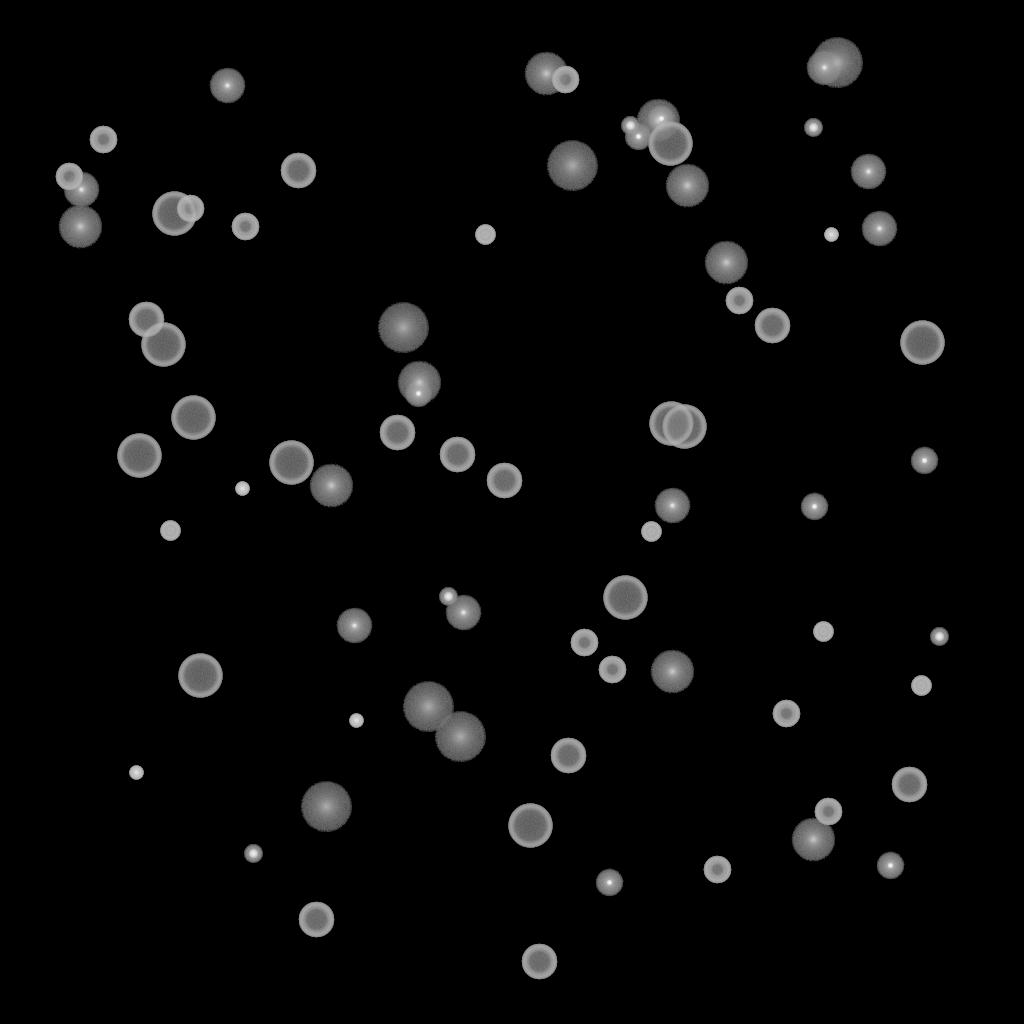depth:-10: (595, 869, 623, 897), (404, 380, 432, 408), (910, 447, 938, 475), (647, 105, 675, 133), (876, 852, 904, 880), (800, 493, 828, 521), (624, 123, 652, 151)
depth:-20: (621, 117, 639, 135), (930, 628, 948, 646), (244, 845, 262, 863), (804, 119, 822, 137), (439, 588, 457, 606)
depth:-30: (824, 228, 838, 242), (129, 766, 143, 780), (349, 714, 363, 728), (235, 482, 249, 496)
depth:-40: (475, 225, 495, 245), (813, 622, 833, 642), (160, 521, 180, 541), (641, 522, 661, 542), (911, 676, 931, 696)
depth:-50: (772, 700, 800, 728), (55, 163, 83, 191), (725, 287, 753, 315), (570, 629, 598, 657), (814, 798, 842, 826), (598, 656, 626, 684), (551, 66, 579, 94), (231, 213, 259, 241), (176, 195, 204, 223), (89, 126, 117, 154), (703, 856, 731, 884)
depth:-60: (379, 415, 415, 451), (280, 153, 316, 189), (486, 463, 522, 499), (891, 767, 927, 803), (439, 437, 475, 473), (521, 944, 557, 980), (128, 302, 164, 338), (298, 902, 334, 938), (550, 738, 586, 774), (754, 308, 790, 344)
depth:-70: (269, 441, 313, 485), (171, 396, 215, 440), (900, 321, 944, 365), (649, 402, 693, 446), (141, 323, 185, 367), (178, 654, 222, 698), (648, 122, 692, 166), (152, 192, 196, 236), (603, 576, 647, 620), (117, 434, 161, 478), (662, 405, 706, 449), (508, 804, 552, 848)
depth:0: (861, 211, 897, 247), (63, 172, 99, 208), (850, 154, 886, 190), (806, 50, 842, 86), (336, 608, 372, 644), (654, 488, 690, 524), (209, 68, 245, 104), (445, 595, 481, 631)
depth:10: (665, 164, 709, 208), (636, 99, 680, 143), (704, 241, 748, 285), (524, 52, 568, 96), (791, 818, 835, 862), (397, 361, 441, 405), (309, 464, 353, 508), (58, 205, 102, 249), (650, 650, 694, 694)
depth:20: (811, 38, 863, 88), (546, 141, 598, 191), (300, 782, 352, 832), (434, 712, 486, 762), (402, 682, 454, 732), (377, 303, 429, 353)
